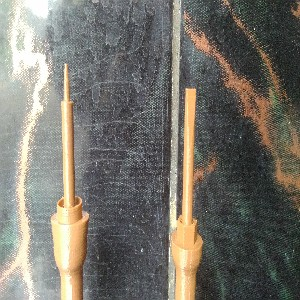obeng: (170, 88, 204, 300)
solder: (50, 63, 90, 300)
